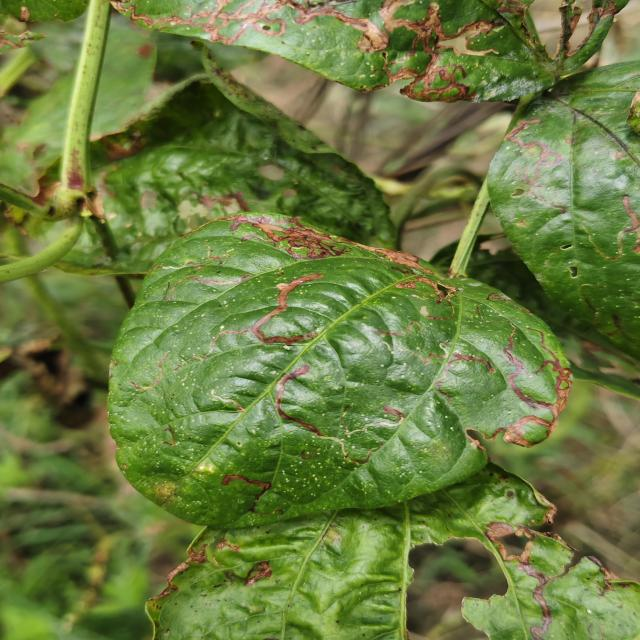leaf-moderate: (60, 75, 397, 274), (110, 0, 628, 102)
sitaw-aphid-low: (109, 215, 572, 529), (147, 493, 638, 640), (488, 60, 640, 359)
